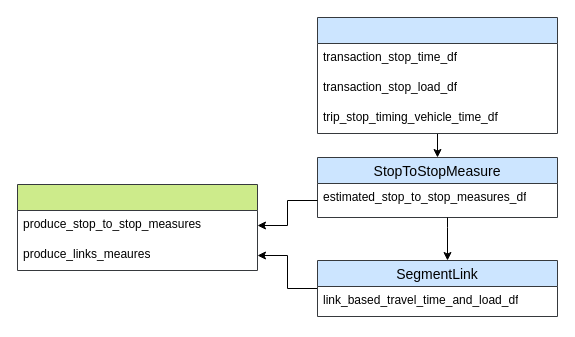
The diagram is 575 pixels wide and 337 high, and some of its shapes have lost their labels. Each missing label, with the box of its shape:
Ticketing: (316, 16, 558, 134)
TransitMetrics: (16, 184, 258, 270)
